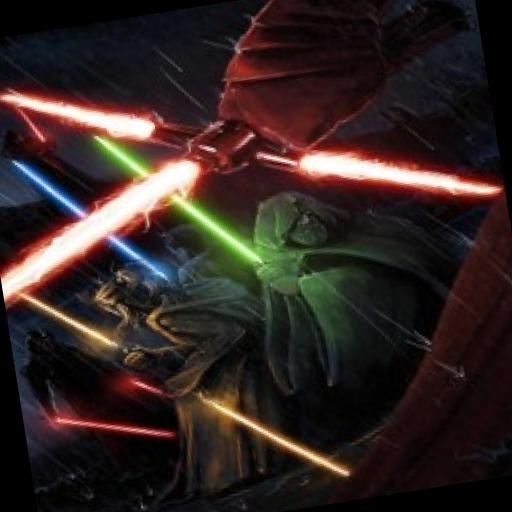lightsaber: (9, 237, 349, 512), (88, 106, 311, 340)
sith saber: (0, 0, 509, 305)
